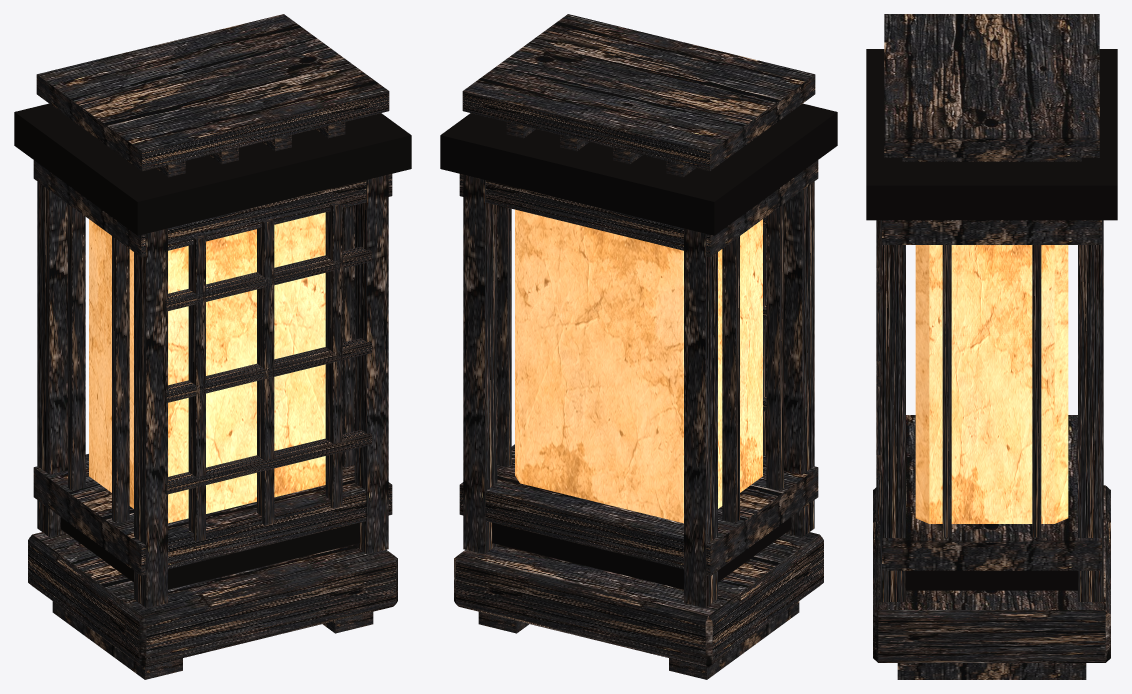
The model's file is nyanisyarud-hyakken-andon.glb.
The picture shows the model from 3 angles, left to right: view 1: azimuth 30°, elevation 25°; view 2: azimuth 150°, elevation 25°; view 3: azimuth 270°, elevation 25°; orthographic projection. The views are drawn at different scales.
Parts seen in each view (by area): view 1: Andon; view 2: Andon; view 3: Andon.
Part boxes in pixels (bbox=[...]): Andon: bbox=[14, 14, 411, 679]; Andon: bbox=[440, 14, 837, 679]; Andon: bbox=[866, 14, 1117, 679].
Bounding box in the file's own units: 0.72 × 1.35 × 0.56.
3 materials, 3 textured.
